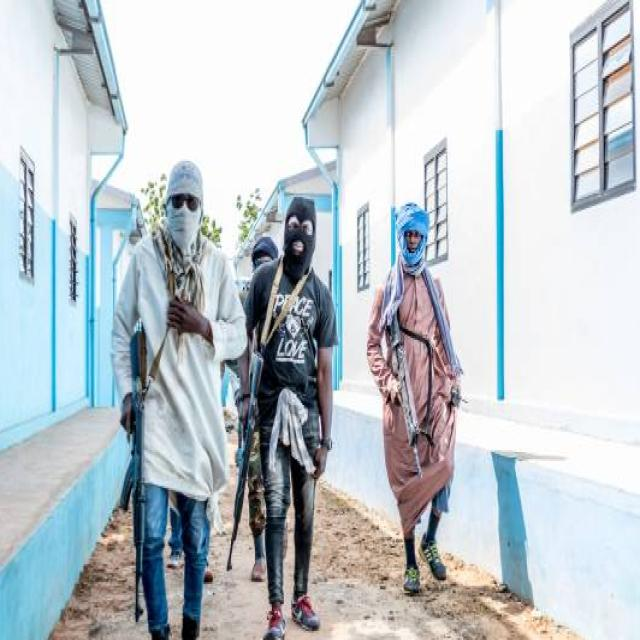terrorist: (113, 161, 245, 640), (227, 195, 334, 640), (367, 202, 461, 593)
